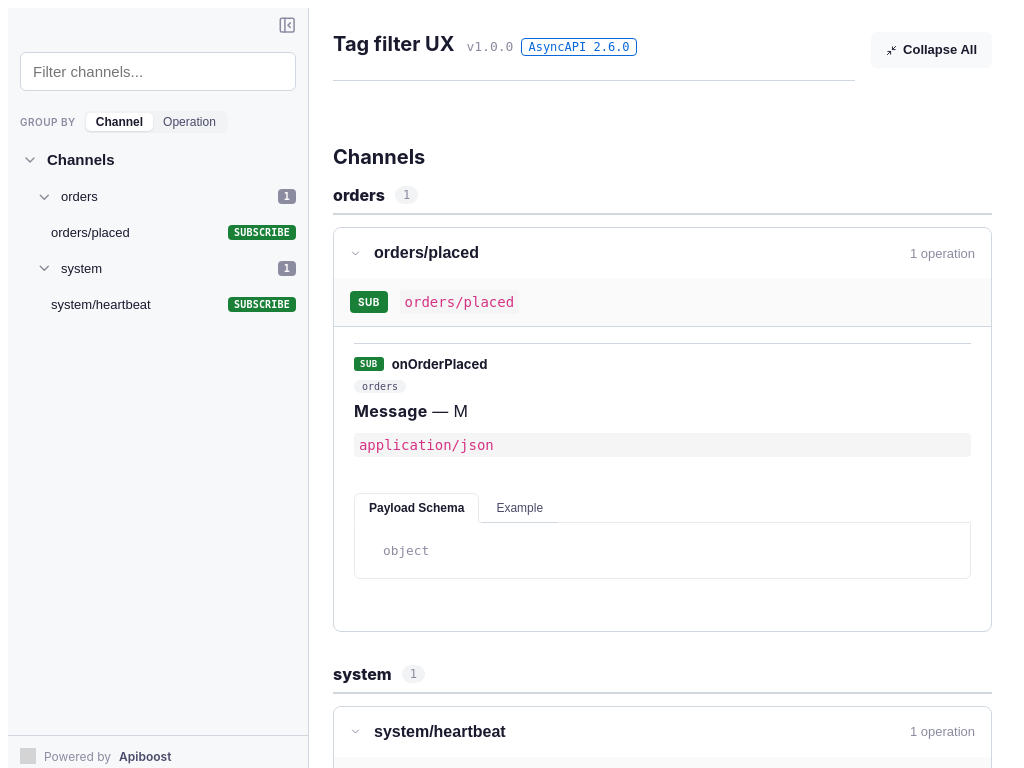
Scenario: AsyncApiSpec active tag-filter indicator (finding 2) › shows an active-filter indicator naming the tag once a tag filter is applied
Expected: the navigation bar is shown, [8,137,308,326]
Expected: the text "filtered by tag" is not shown
Click the button "orders".
click(380, 386)  # box [354,380,406,393]
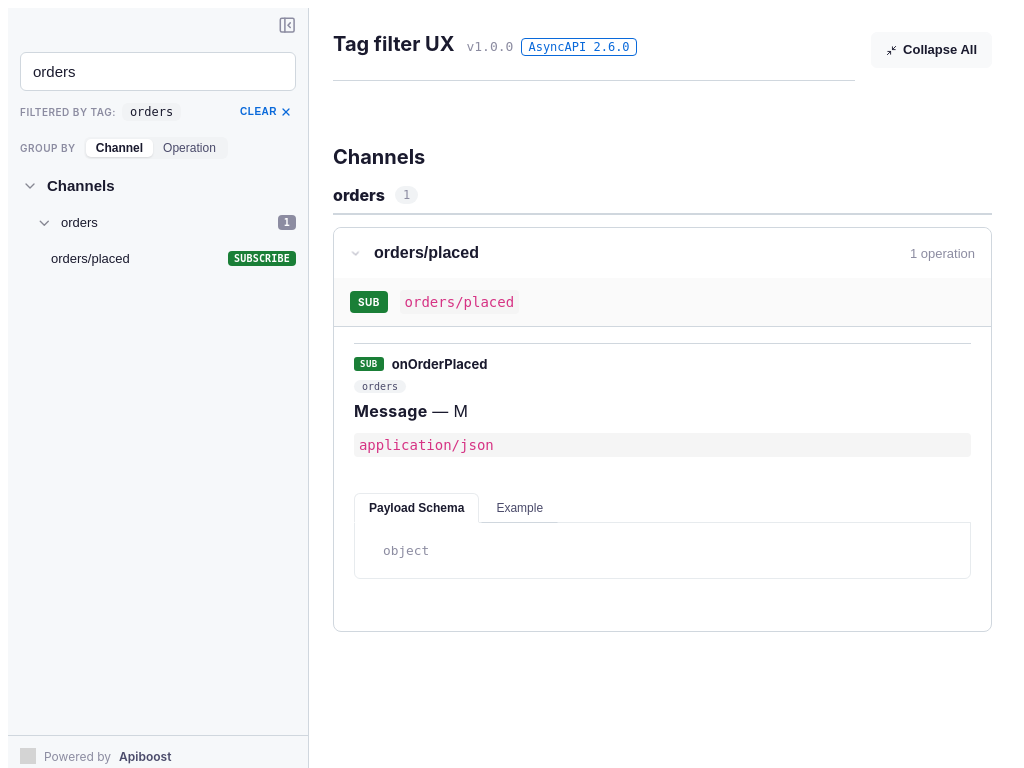
Now the text "Filtered by tag:" is shown, box [20,106,116,118]
